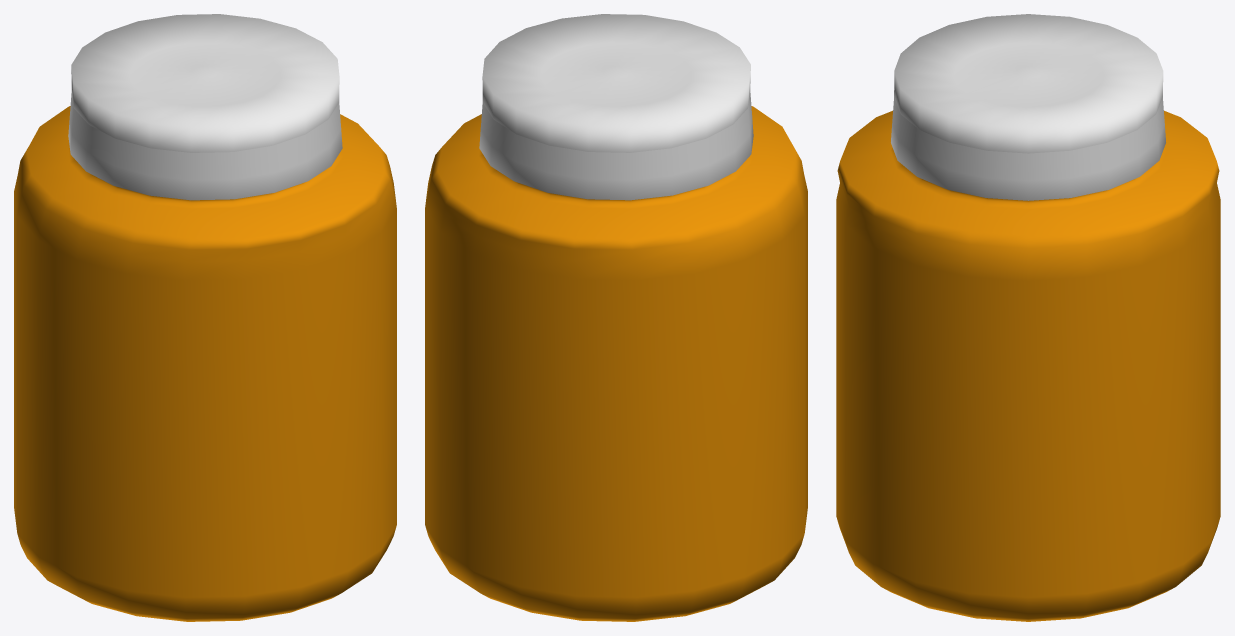
Rendered from SM_Jar_Full.fbx.
The picture shows the model from 3 angles, left to right: view 1: azimuth 30°, elevation 25°; view 2: azimuth 150°, elevation 25°; view 3: azimuth 270°, elevation 25°; orthographic projection.
Visible parts, largest first — view 1: JarFull; view 2: JarFull; view 3: JarFull.
Boxes of the visible parts, left/top/right/bottom form: JarFull: left=14, top=14, right=396, bottom=621; JarFull: left=425, top=14, right=807, bottom=621; JarFull: left=836, top=14, right=1220, bottom=621.
Bounding box in the file's own units: 0.1739 × 0.2393 × 0.1739.
